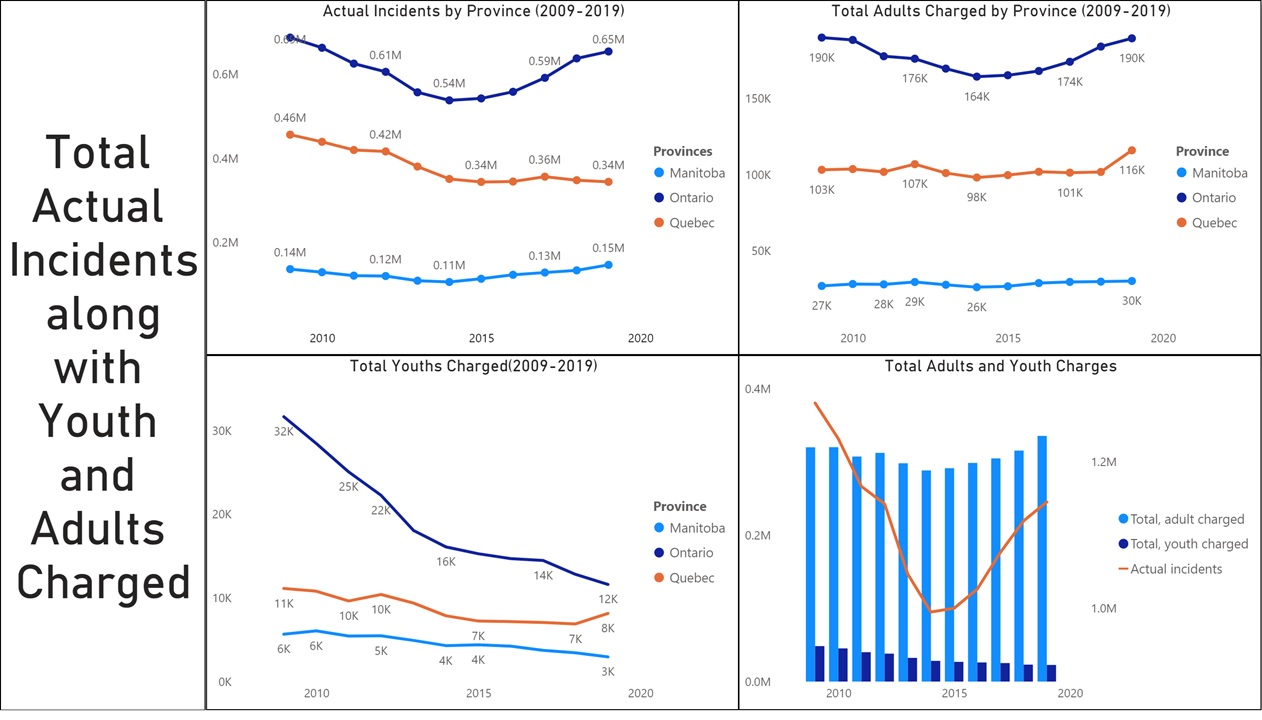

The page's visual inventory and layout, read from the dashboard file:
{"tool":"powerbi","page":{"name":"Total Provincial","canvas":[1280,720],"ordinal":0},"visuals":[{"type":"lineChart","title":"Actual Incidents by Province (2009-2019)","fields":{"Y":["Sum(MB-ON-QB.Actual incidents)"],"Category":["MB-ON-QB.REF_DATE"],"Series":["MB-ON-QB.Province"]},"box":[208.8,0,540.4,360.2],"z":0},{"type":"lineChart","title":"Total Adults Charged by Province (2009-2019)","fields":{"Category":["MB-ON-QB.REF_DATE"],"Y":["Sum(MB-ON-QB.Total, adult charged)"],"Series":["MB-ON-QB.Province"]},"box":[749.2,0,530.5,360.2],"z":1000},{"type":"lineChart","title":"Total Youths Charged(2009-2019)","fields":{"Y":["Sum(MB-ON-QB.Total, youth charged)"],"Category":["MB-ON-QB.REF_DATE"],"Series":["MB-ON-QB.Province"]},"box":[208.8,360.2,540.4,360.2],"z":3000},{"type":"lineClusteredColumnComboChart","title":"Total Adults and Youth Charges","fields":{"Y":["Sum(MB-ON-QB.Total, adult charged)","Sum(MB-ON-QB.Total, youth charged)"],"Category":["MB-ON-QB.REF_DATE"],"Y2":["Sum(MB-ON-QB.Actual incidents)"]},"box":[749.2,360.2,530.5,360.2],"z":4000},{"type":"card","fields":{"Values":["MB-ON-QB.incidents"]},"box":[0,0,208.7,720.7],"z":4001}]}

Visuals, with their boxes in screenshot pixels (x1, y1, x2, y2), scaled from the page's 1280x720 canvas onto the 1262x720 screenshot:
"Actual Incidents by Province (2009-2019)" lineChart: (left=206, top=0, right=739, bottom=360)
"Total Adults Charged by Province (2009-2019)" lineChart: (left=739, top=0, right=1261, bottom=360)
"Total Youths Charged(2009-2019)" lineChart: (left=206, top=360, right=739, bottom=719)
"Total Adults and Youth Charges" lineClusteredColumnComboChart: (left=739, top=360, right=1261, bottom=719)
card - MB-ON-QB.incidents: (left=0, top=0, right=206, bottom=719)
